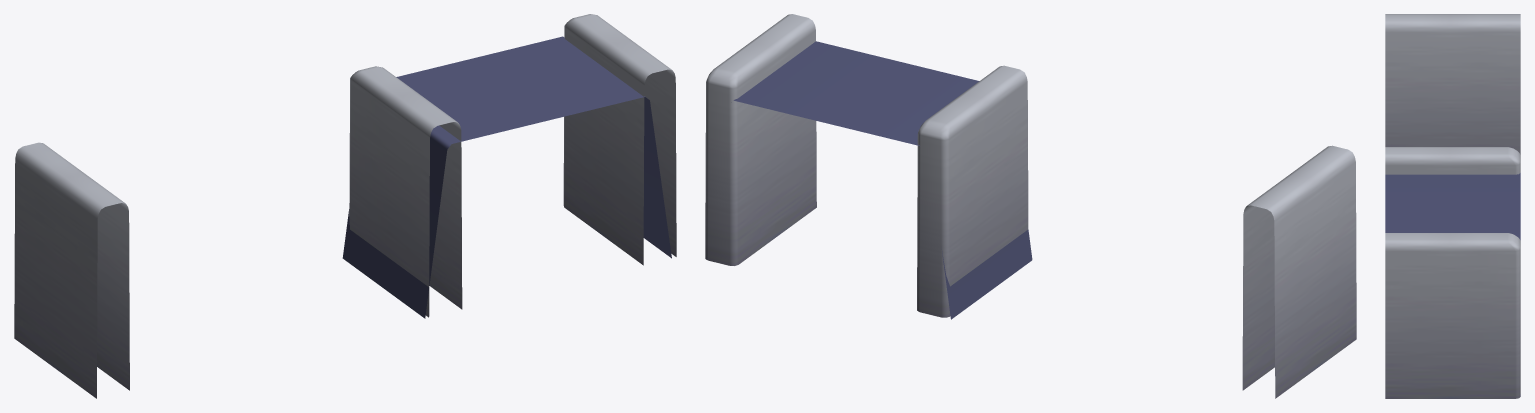
File: RayItem.fbx
The picture shows the model from 3 angles, left to right: view 1: azimuth 30°, elevation 25°; view 2: azimuth 150°, elevation 25°; view 3: azimuth 270°, elevation 25°; orthographic projection. The views are drawn at different scales.
Parts seen in each view (by area): view 1: RaySup, Ray, RaySup_Cap__1_, RaySup_Cap; view 2: RaySup, RaySup_Cap__1_, RaySup_Cap, Ray; view 3: RaySup_Cap, RaySup, Ray, RaySup_Cap__1_.
Boxes of the visible parts, x1,y1,x2,y2 form: RaySup: (14, 142, 129, 398); Ray: (342, 36, 671, 318); RaySup_Cap__1_: (349, 66, 462, 317); RaySup_Cap: (563, 14, 676, 265); RaySup: (1242, 145, 1356, 398); RaySup_Cap__1_: (917, 65, 1028, 317); RaySup_Cap: (705, 14, 816, 265); Ray: (707, 41, 1032, 319); RaySup_Cap: (1385, 233, 1520, 398); RaySup: (1385, 14, 1520, 154); Ray: (1385, 173, 1520, 396); RaySup_Cap__1_: (1385, 147, 1520, 174).
Size of the model in its own units: 541 by 169 by 133.
